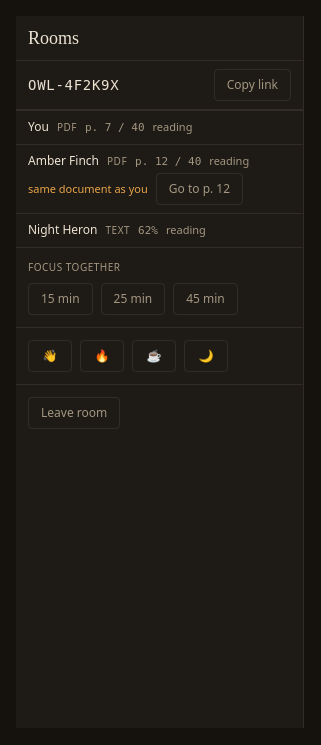
Test: RoomPanel same document, Go to and Back › offers a way back after a jump, once, and takes it back
Click the button "Go to p. 12". click: (199, 189)
box: [156, 173, 243, 205]
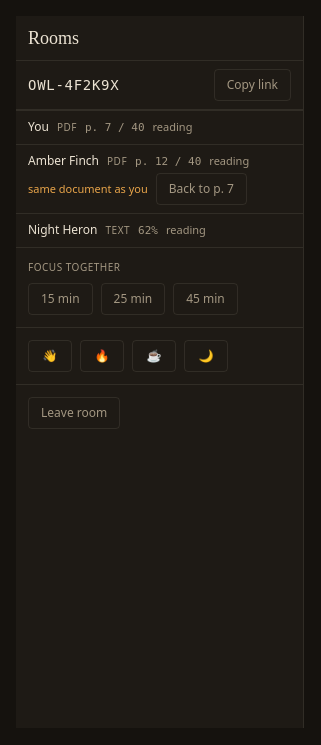
Expected: the button "Go to p. 12" is gone
Click the button "Back to p. 7". click: (201, 189)
box: [156, 173, 247, 205]
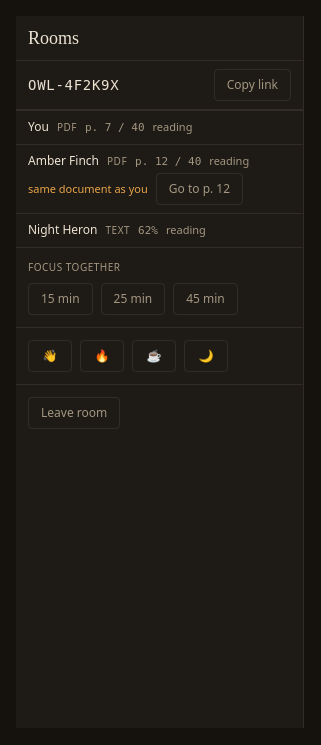
Expected: the button "Back to p. 7" is gone
Expected: the button "Go to p. 12" is shown, [156, 173, 243, 205]
